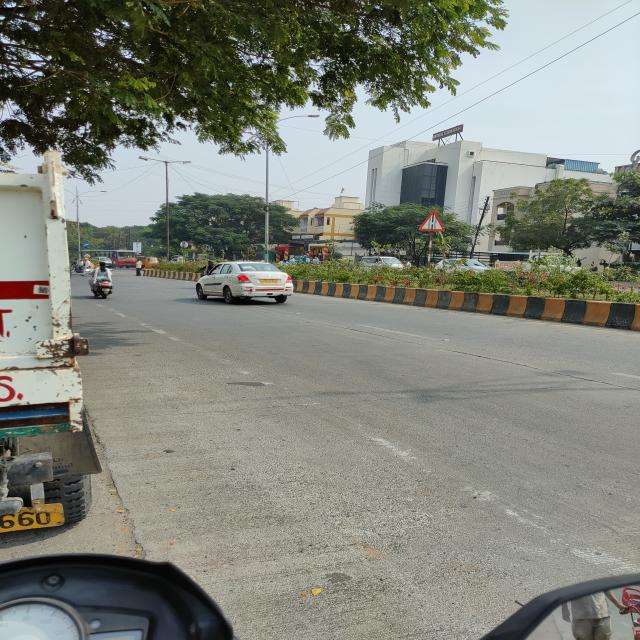ferry: (417, 210, 448, 232)
